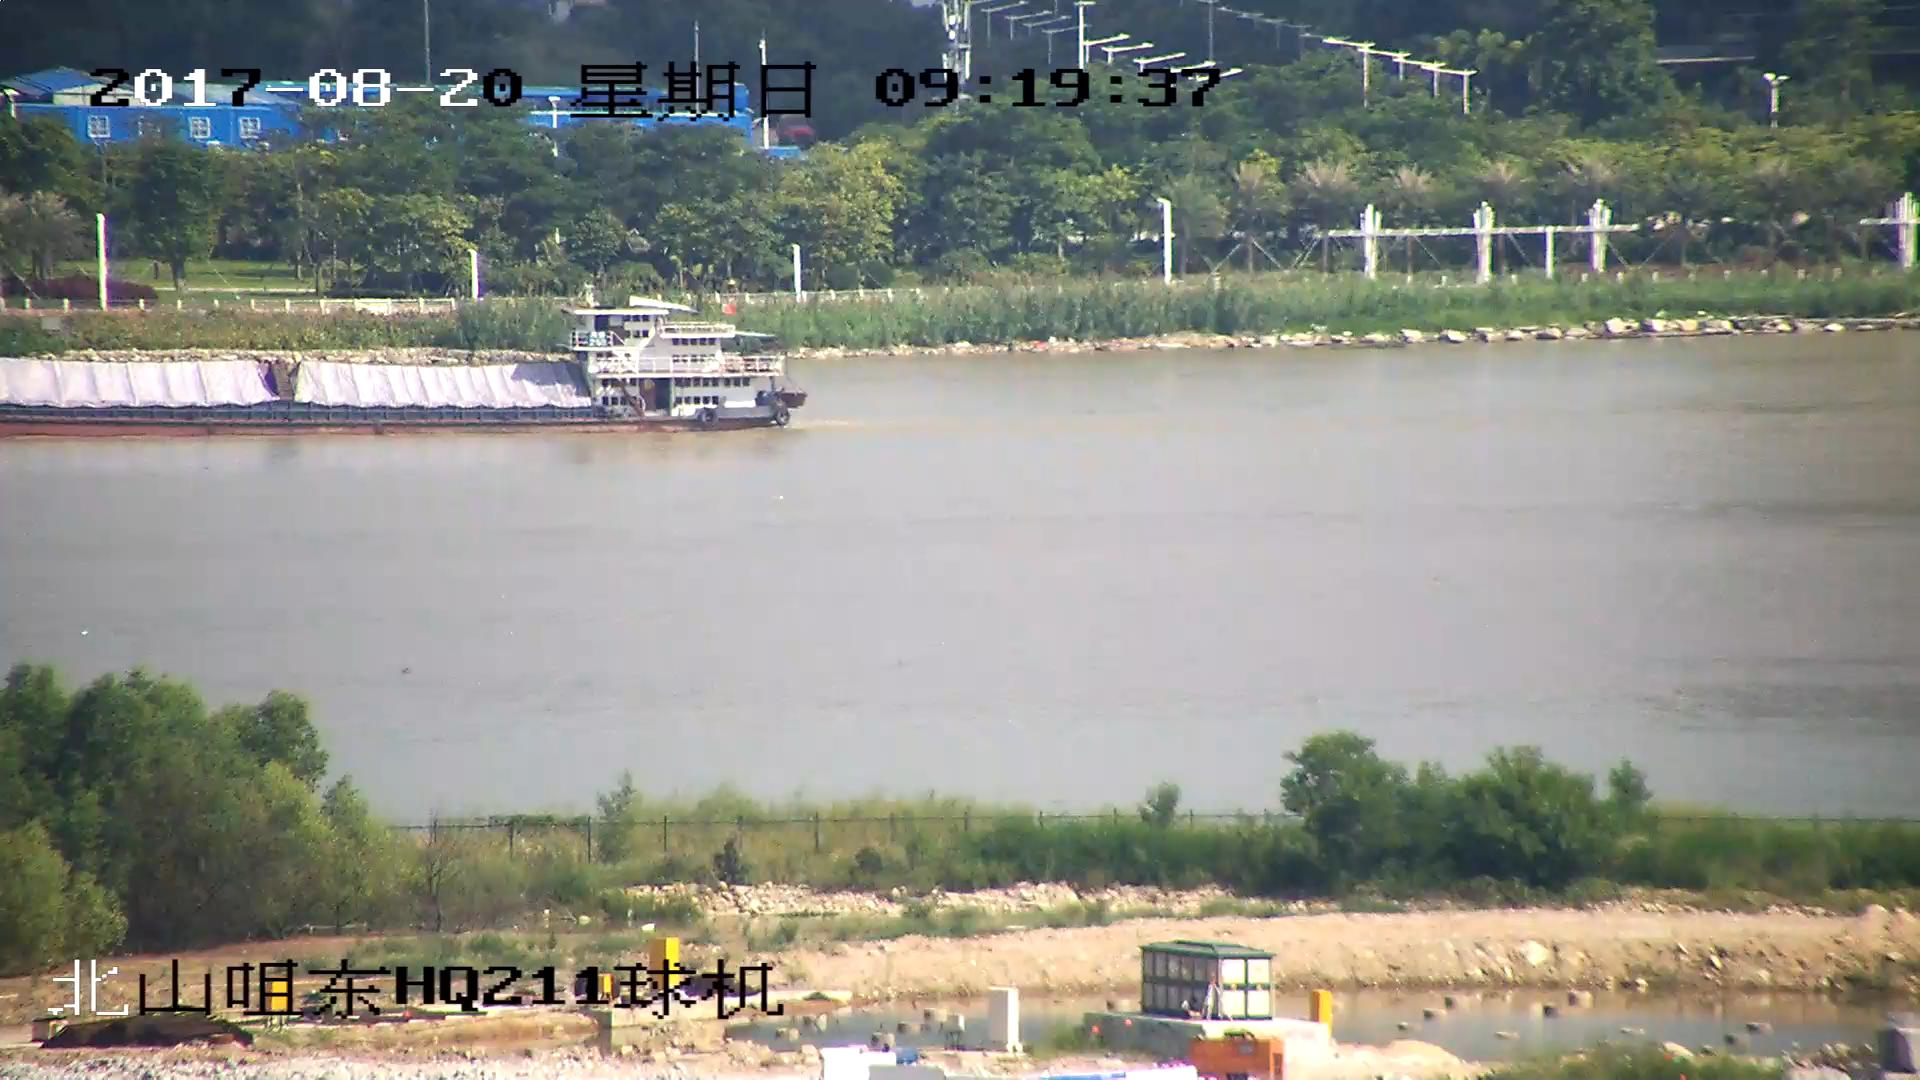general cargo ship: (1, 295, 801, 440)
